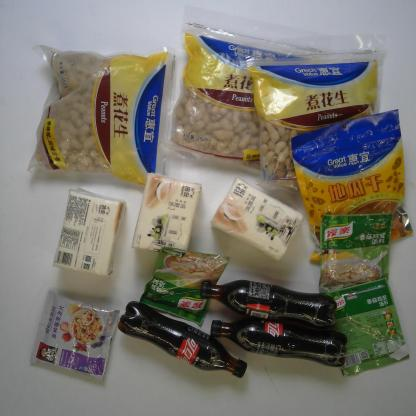Dried Food: (166, 3, 330, 176), (236, 33, 383, 197), (27, 44, 175, 187)
Dried Fruit: (291, 109, 415, 261)
Drink: (118, 301, 248, 378), (200, 279, 338, 330), (210, 318, 348, 368)
Instant Drink: (28, 290, 121, 382)
Seasoner: (324, 277, 410, 377), (139, 247, 231, 326), (318, 212, 394, 294)
Tissue: (210, 177, 304, 261), (52, 187, 127, 277), (131, 172, 202, 253)
